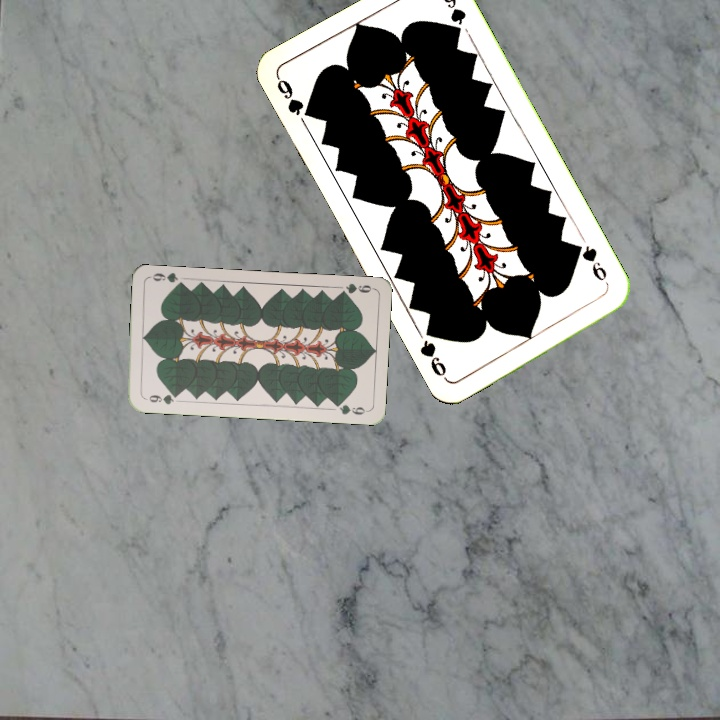G9: (272, 73, 317, 121), (571, 240, 610, 284), (335, 279, 376, 298), (140, 390, 181, 407)
